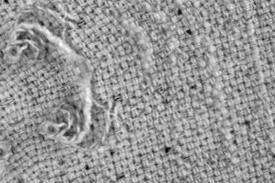snag: (36, 82, 103, 153), (4, 23, 91, 68)
